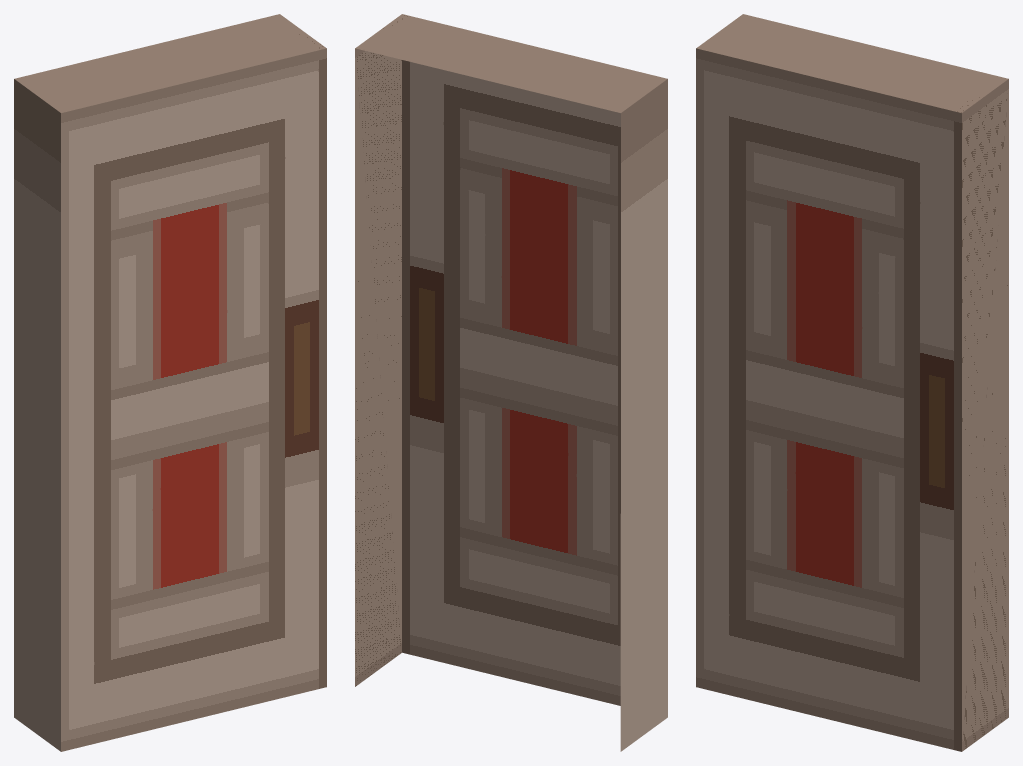
Rendered from GymDoorLeft.fbx.
The picture shows the model from 3 angles, left to right: view 1: azimuth 30°, elevation 25°; view 2: azimuth 150°, elevation 25°; view 3: azimuth 330°, elevation 25°; orthographic projection.
Visible parts, largest first — view 1: polygon0; view 2: polygon0; view 3: polygon0.
Boxes of the visible parts, x1,y1,x2,y2 form: polygon0: [14, 14, 326, 751]; polygon0: [355, 14, 667, 751]; polygon0: [696, 14, 1008, 751].
Bounding box in the file's own units: 3.27 × 7.5 × 1.
